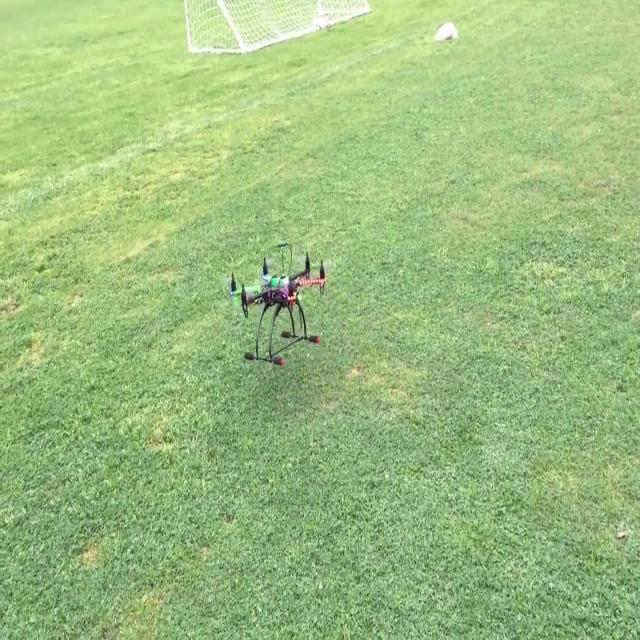drone: (224, 247, 343, 373)
